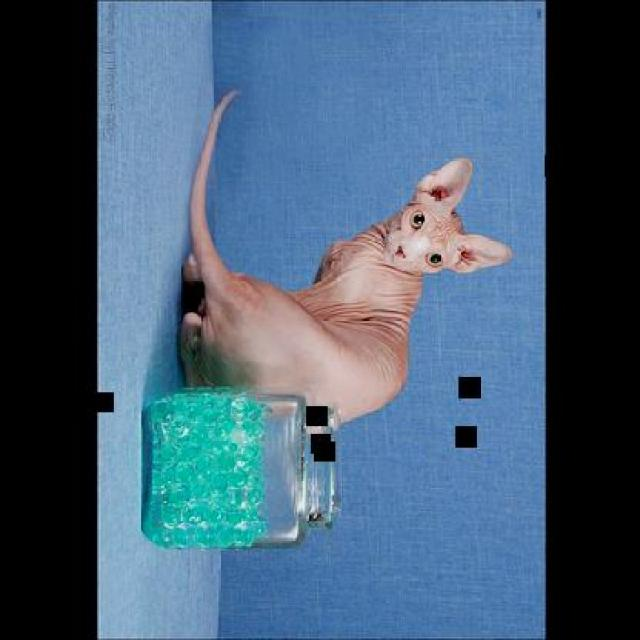unauthorized: (177, 88, 512, 430)
